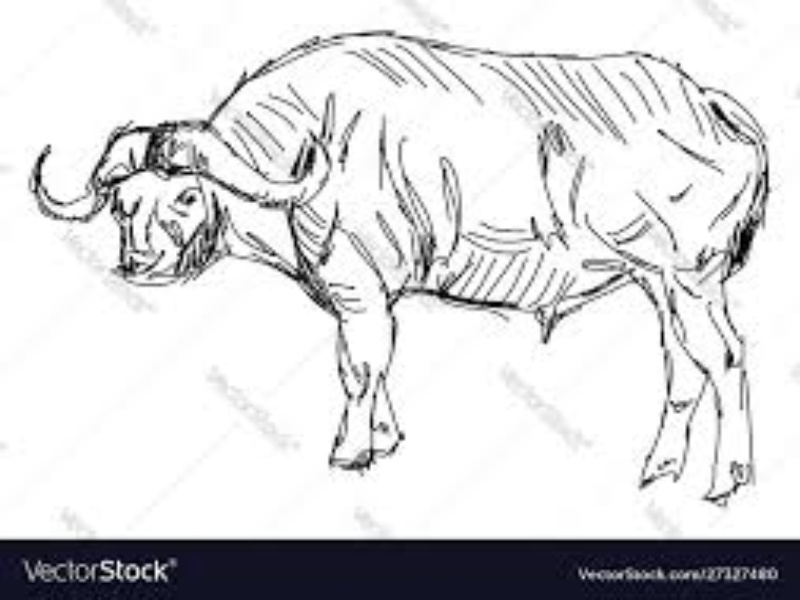buffalo: (27, 32, 768, 502)
